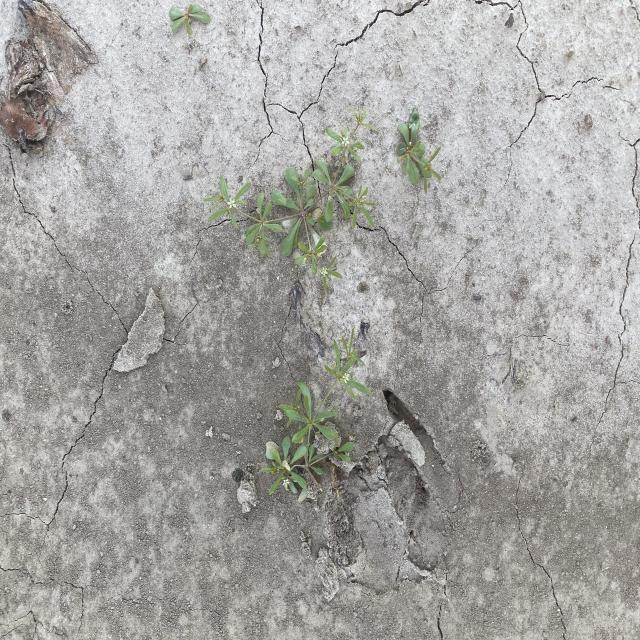Carpetweed: (203, 104, 380, 296), (260, 324, 373, 504), (392, 105, 443, 195), (168, 1, 212, 36)
